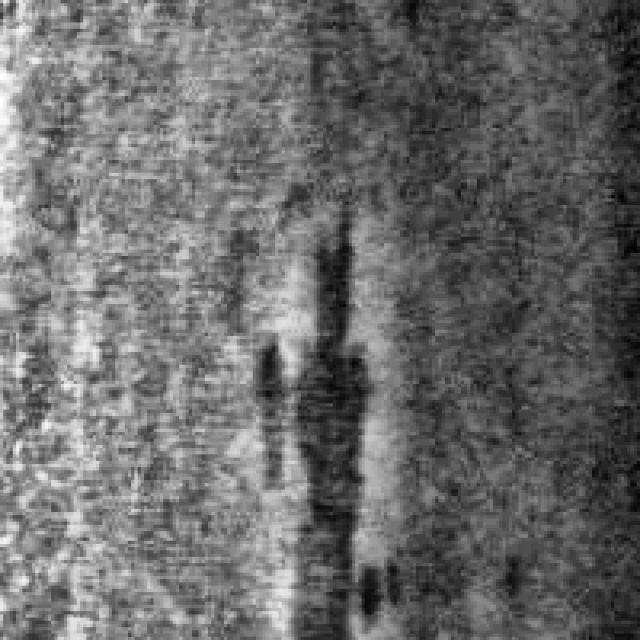Patches: (244, 218, 390, 630)
